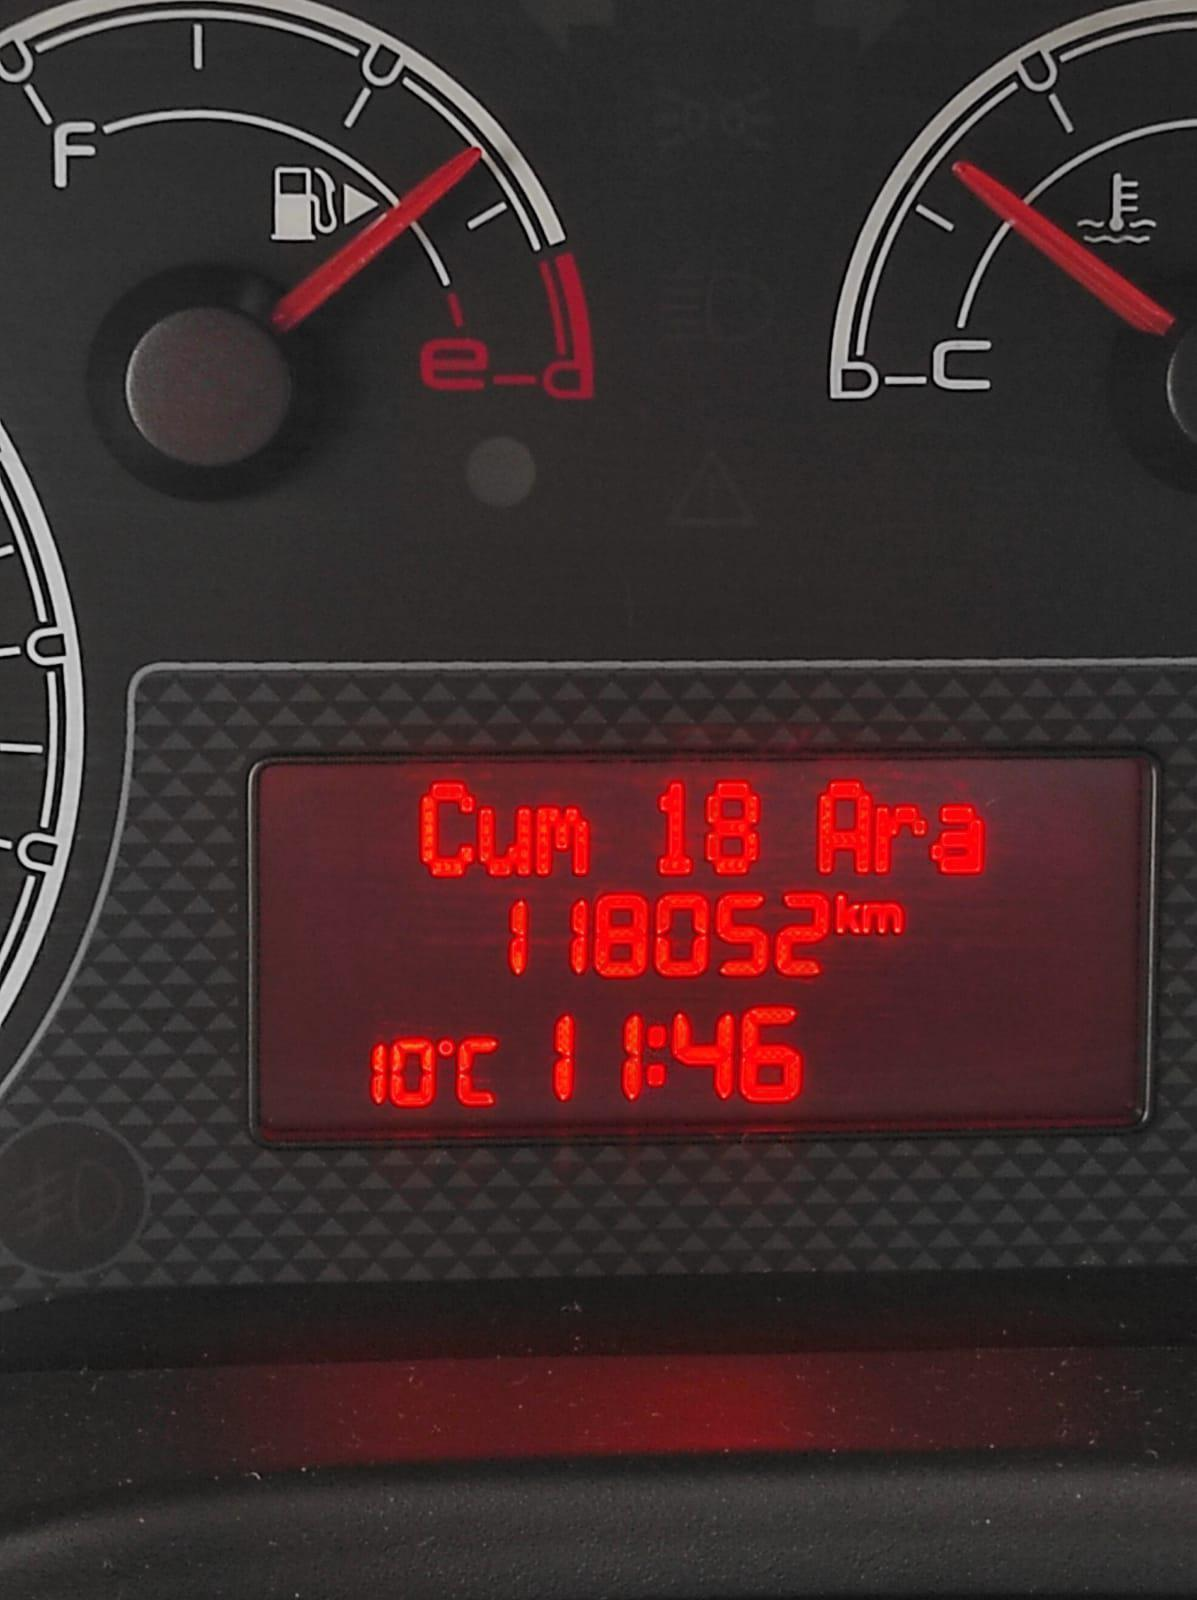0: (649, 889, 713, 982), (389, 1034, 436, 1111)
1: (643, 773, 697, 881), (541, 1005, 581, 1109), (498, 894, 539, 982), (610, 1003, 644, 1109), (560, 889, 592, 979), (361, 1034, 389, 1109)
2: (771, 885, 829, 980)
4: (669, 1005, 734, 1105)
5: (713, 886, 769, 982)
6: (736, 1000, 806, 1109)
8: (699, 773, 766, 879), (592, 886, 648, 982)
X: (407, 772, 477, 884), (807, 773, 873, 879), (929, 796, 993, 880), (533, 797, 595, 879), (477, 798, 533, 884), (874, 796, 928, 877), (456, 1031, 500, 1111), (863, 897, 907, 938), (644, 1022, 668, 1091), (832, 886, 863, 938)
odometer: (235, 737, 1171, 1158)
